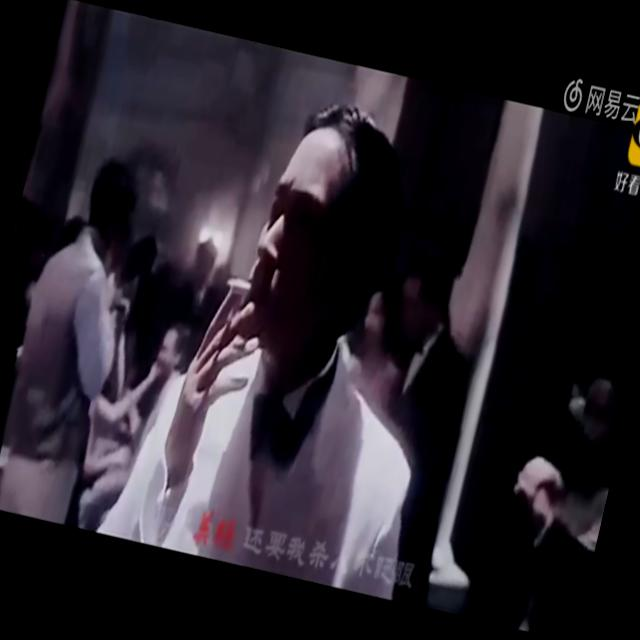smoke: (220, 268, 253, 300)
